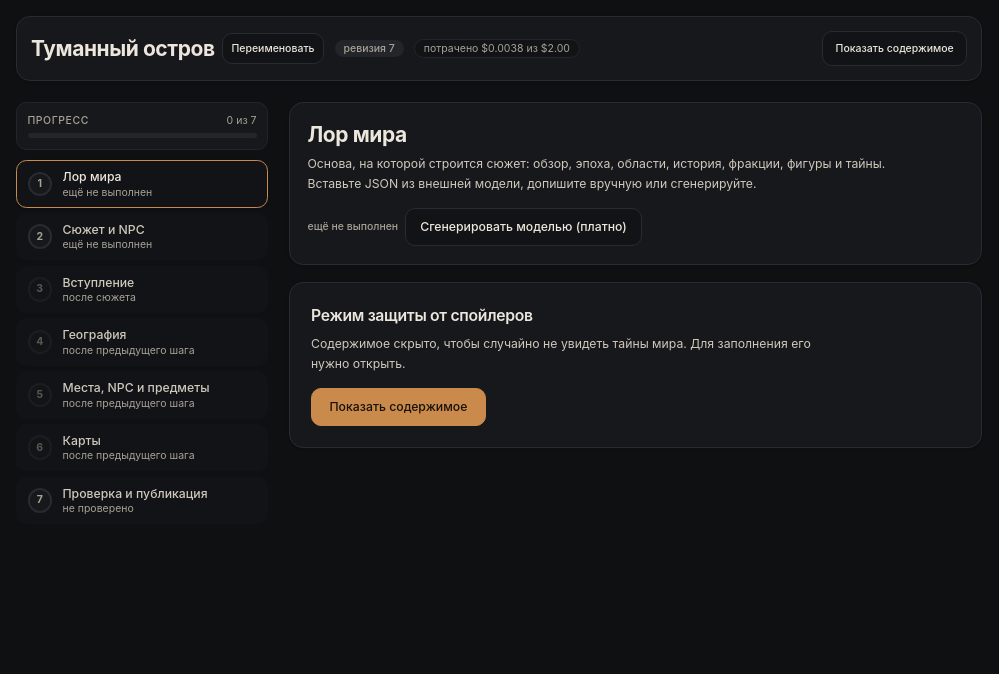
отказ публикации показывает причины
The image size is (999, 674).
Expected: the heading "Туманный остров" is shown, left=31, top=34, right=215, bottom=62
Click the text "Проверка и публикация" at coordinates (135, 493), box left=62, top=484, right=208, bottom=502
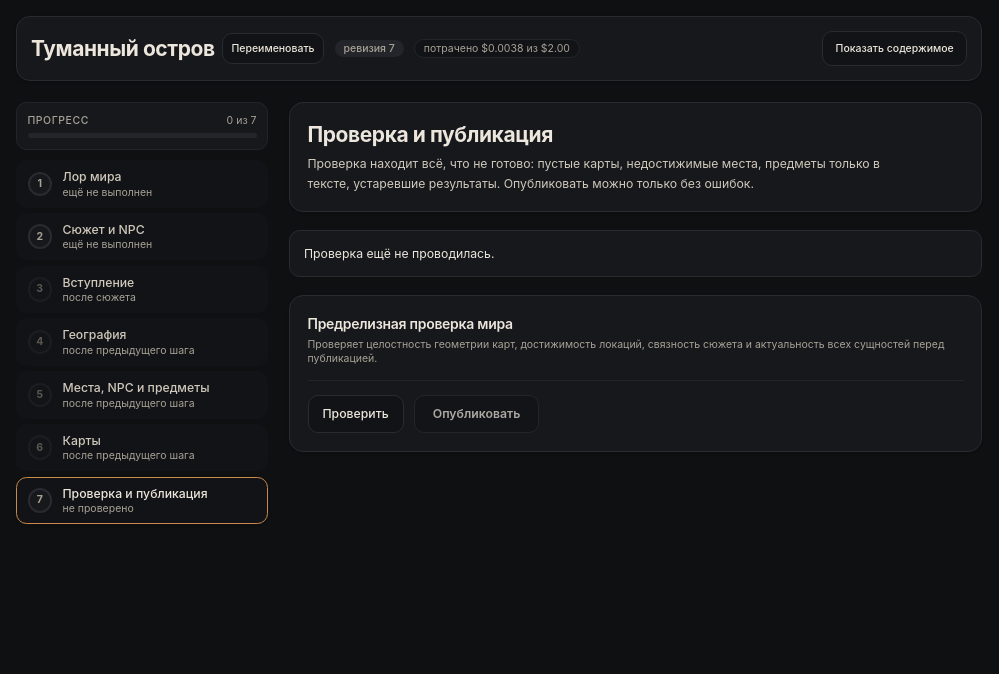
Click the button "Проверить" at coordinates (356, 414), box left=308, top=395, right=404, bottom=433
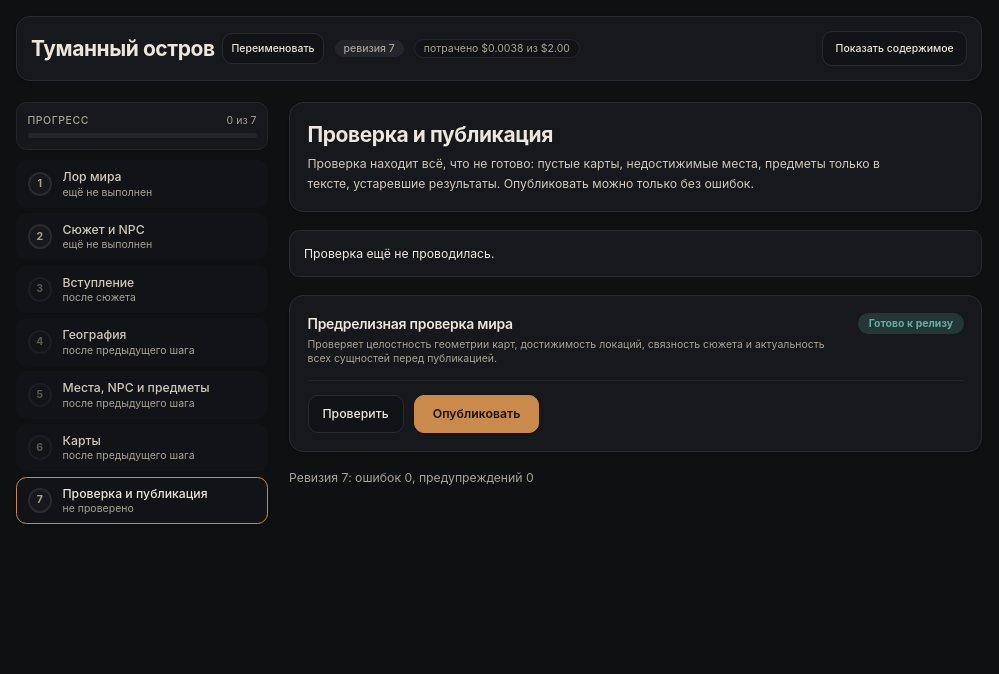
Expected: the button "Опубликовать" is enabled
Click the button "Опубликовать" at coordinates (476, 414), box left=414, top=395, right=539, bottom=433
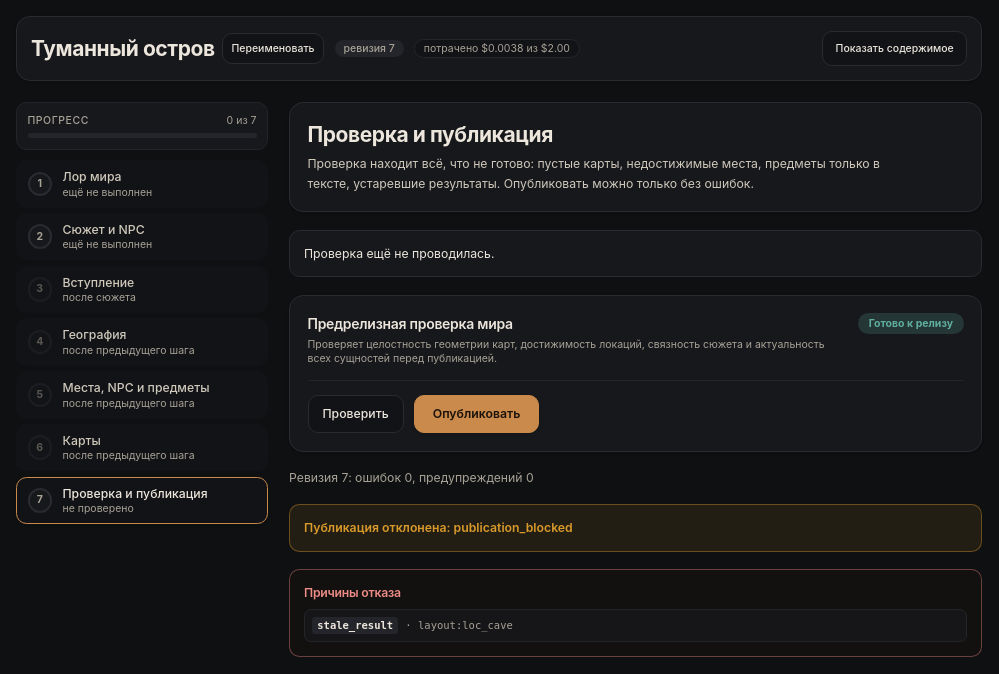
Expected: the text "Публикация отклонена: publication_blocked" is shown, left=304, top=520, right=573, bottom=535
Expected: the text "stale_result" is shown, left=312, top=617, right=398, bottom=634
